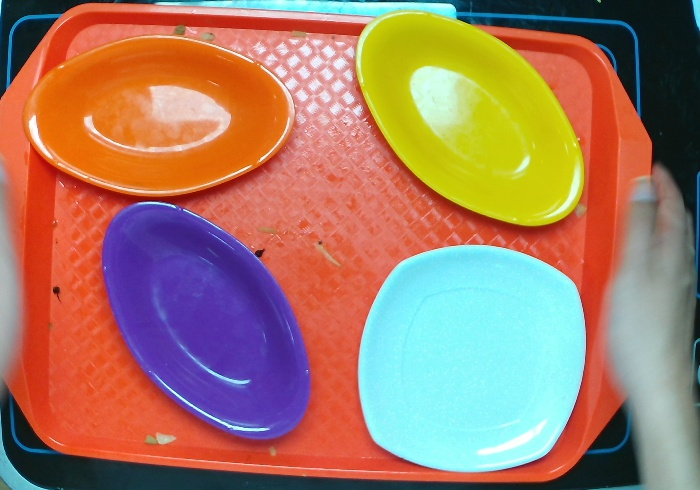RJxy-Fen_Hong_Tuo_Yuan: (97, 198, 322, 445)
RJxy-Huang_Se_Tuo_Yuan: (353, 4, 596, 233)
RJxy-Ju_Huang_Tuo_Yuan: (20, 32, 301, 205)
RJxy-Si_Fang_Die: (344, 230, 598, 480)
